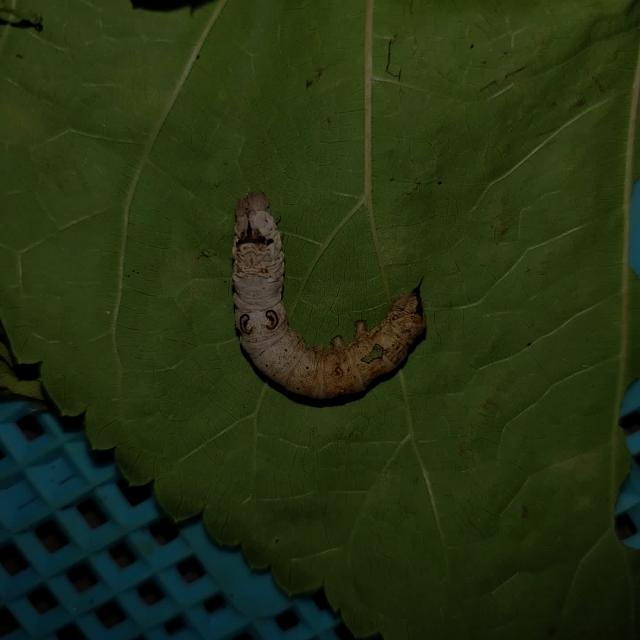Grasserie: (212, 158, 448, 428)
